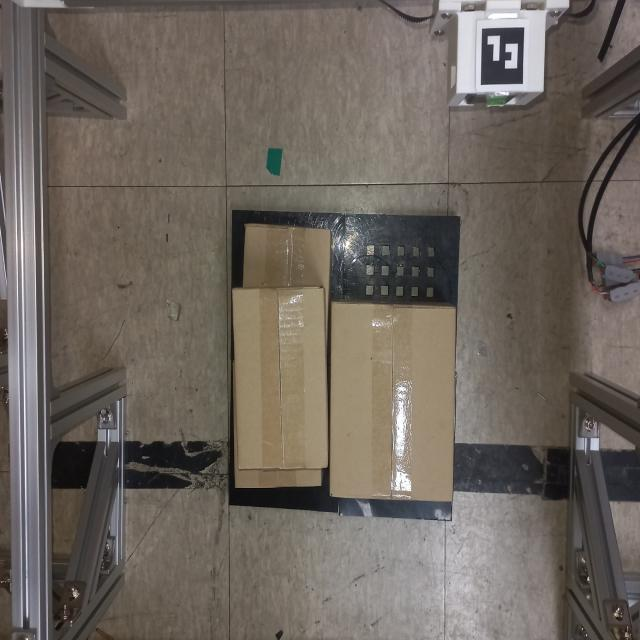box: (325, 296, 458, 508), (229, 282, 331, 472)
